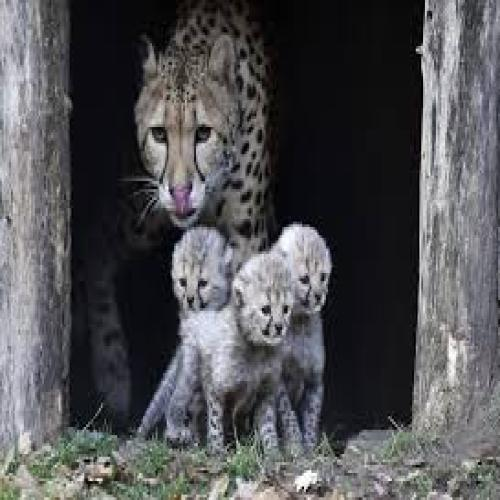cheetah-endangered: (80, 1, 277, 431), (166, 251, 294, 463), (137, 226, 234, 448), (270, 222, 334, 458)
